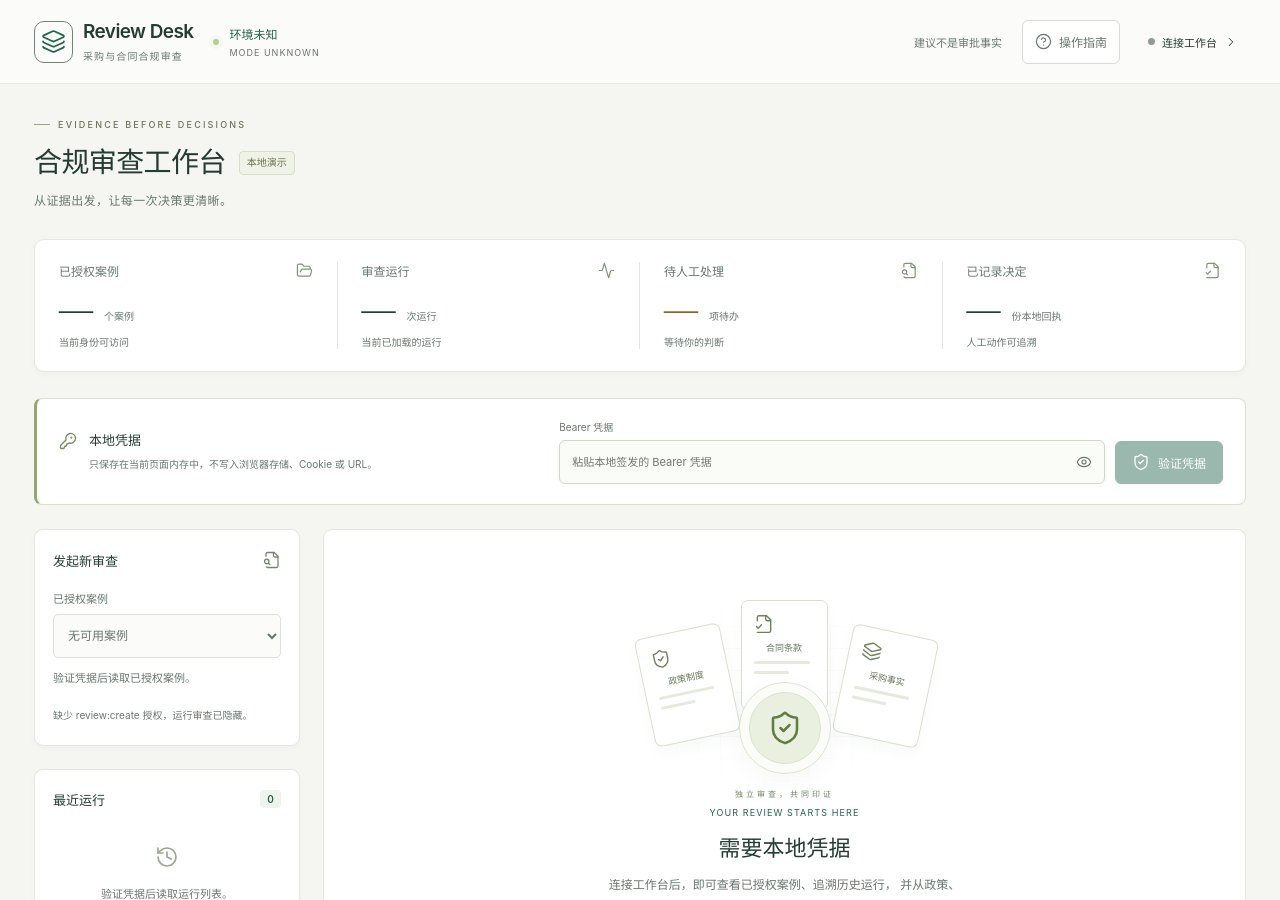
Test: FIX-07 S-02 · ownership, binding and replay are unchanged › never retries a write on its own
In the password field labelled "Bearer 凭据": (812, 462) [560, 441, 1064, 483], type "fix01c-local-credential"
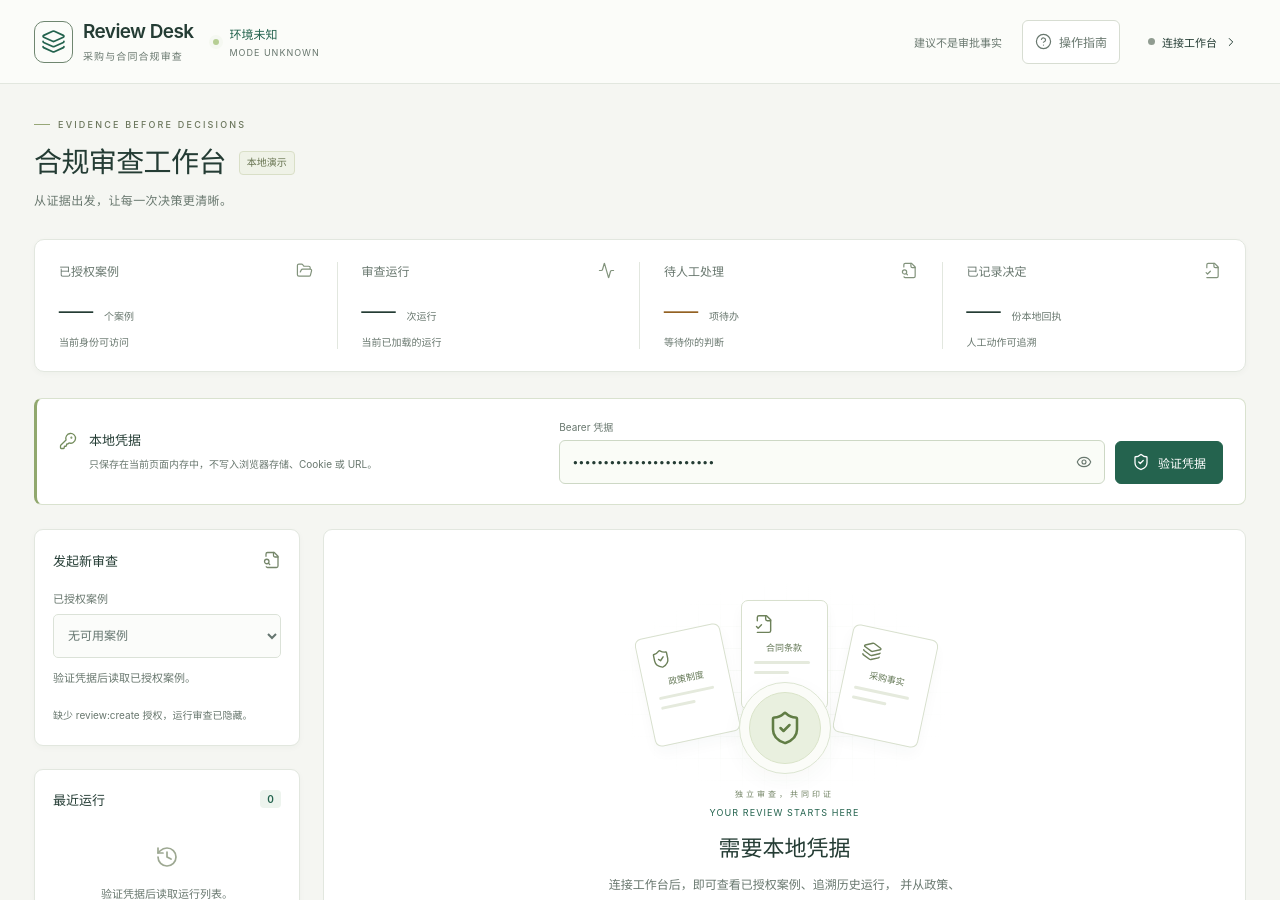
Click the button "验证凭据": (1169, 462) [1115, 441, 1223, 484]
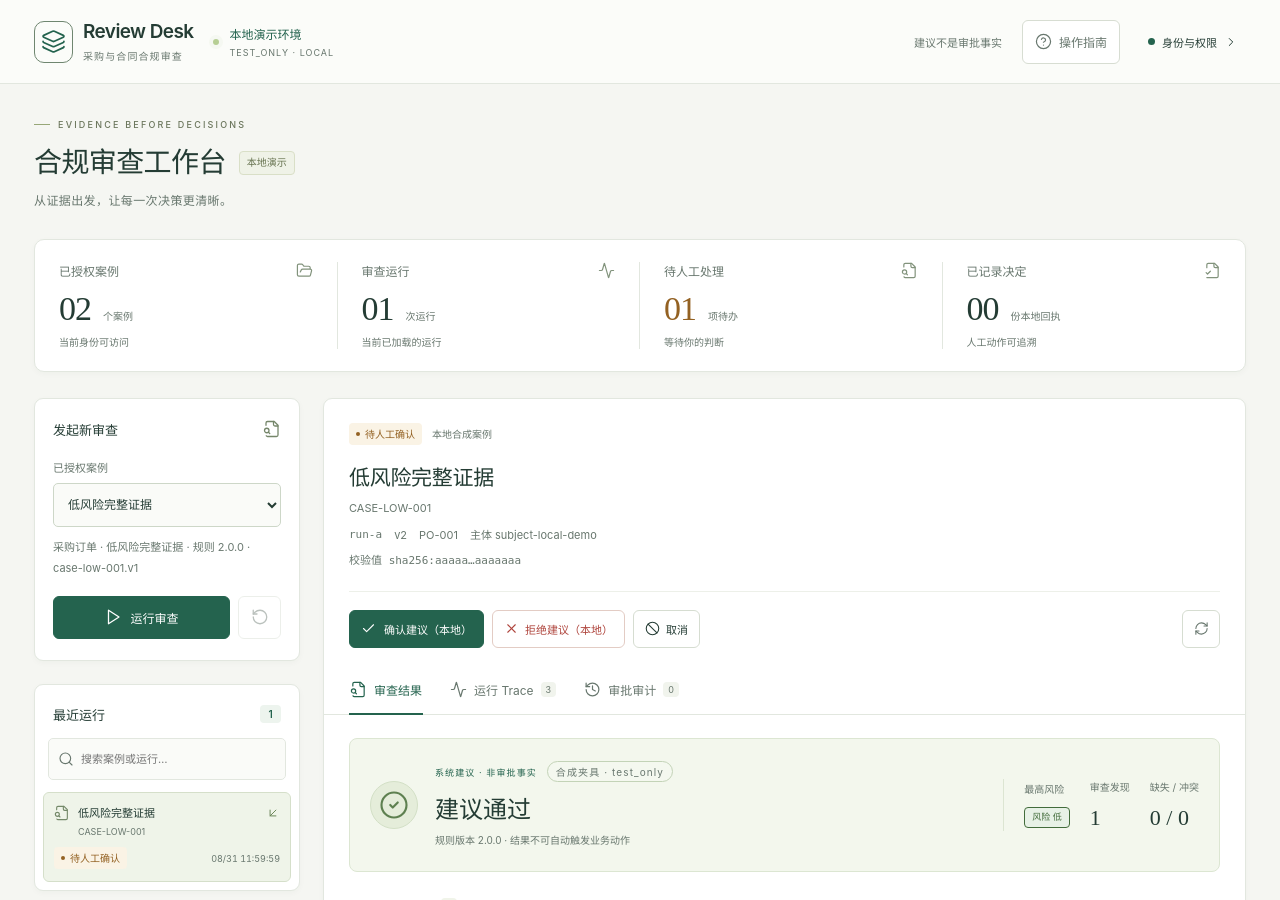
Click the button "确认建议（本地）": (416, 629) [349, 610, 484, 648]
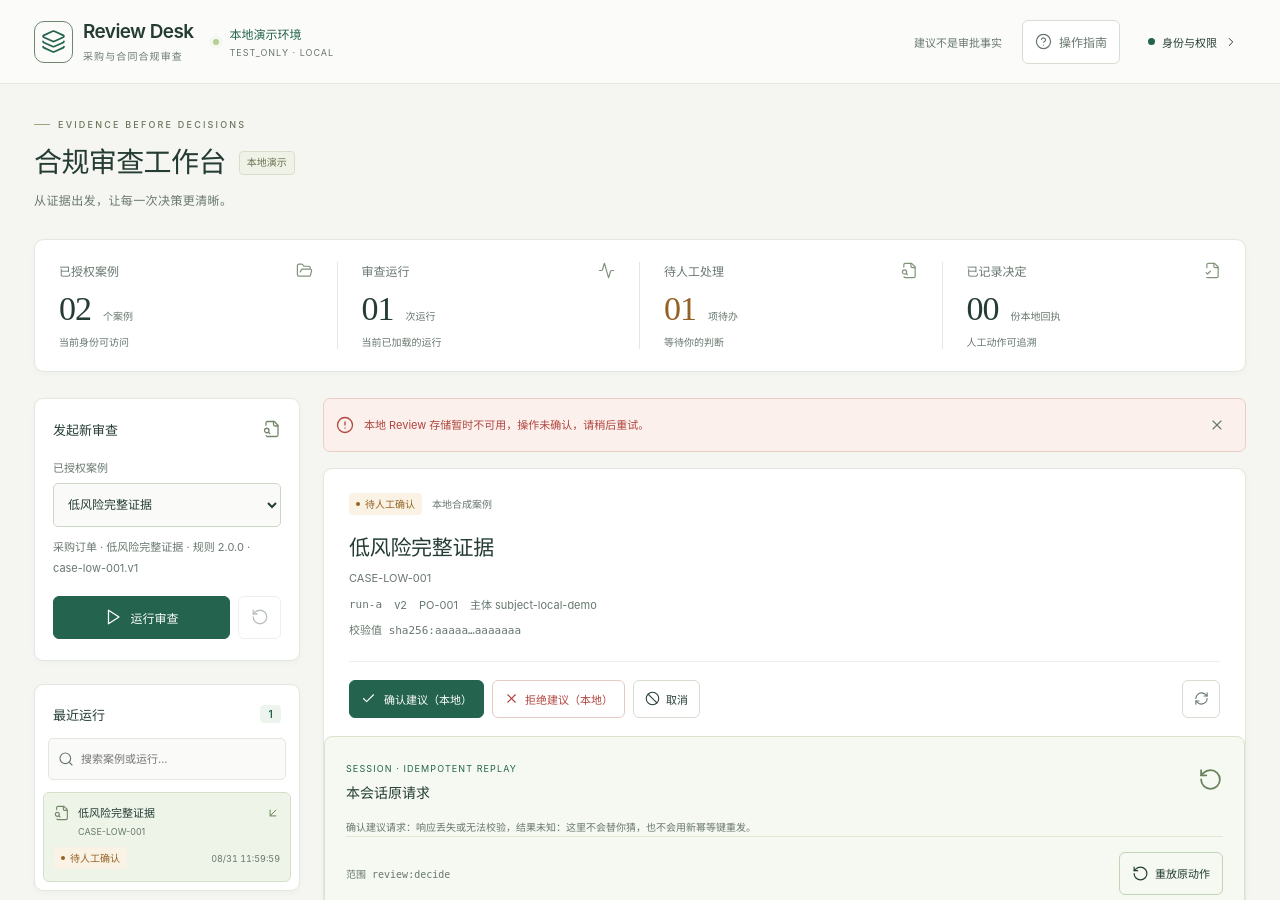
Check: the button "重放原动作" is enabled, box [1119, 852, 1223, 895]
